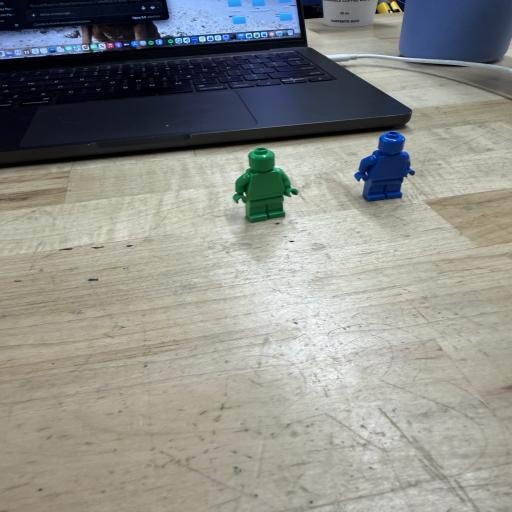blue-minifig: (355, 132, 414, 201)
green-minifig: (233, 147, 298, 222)
